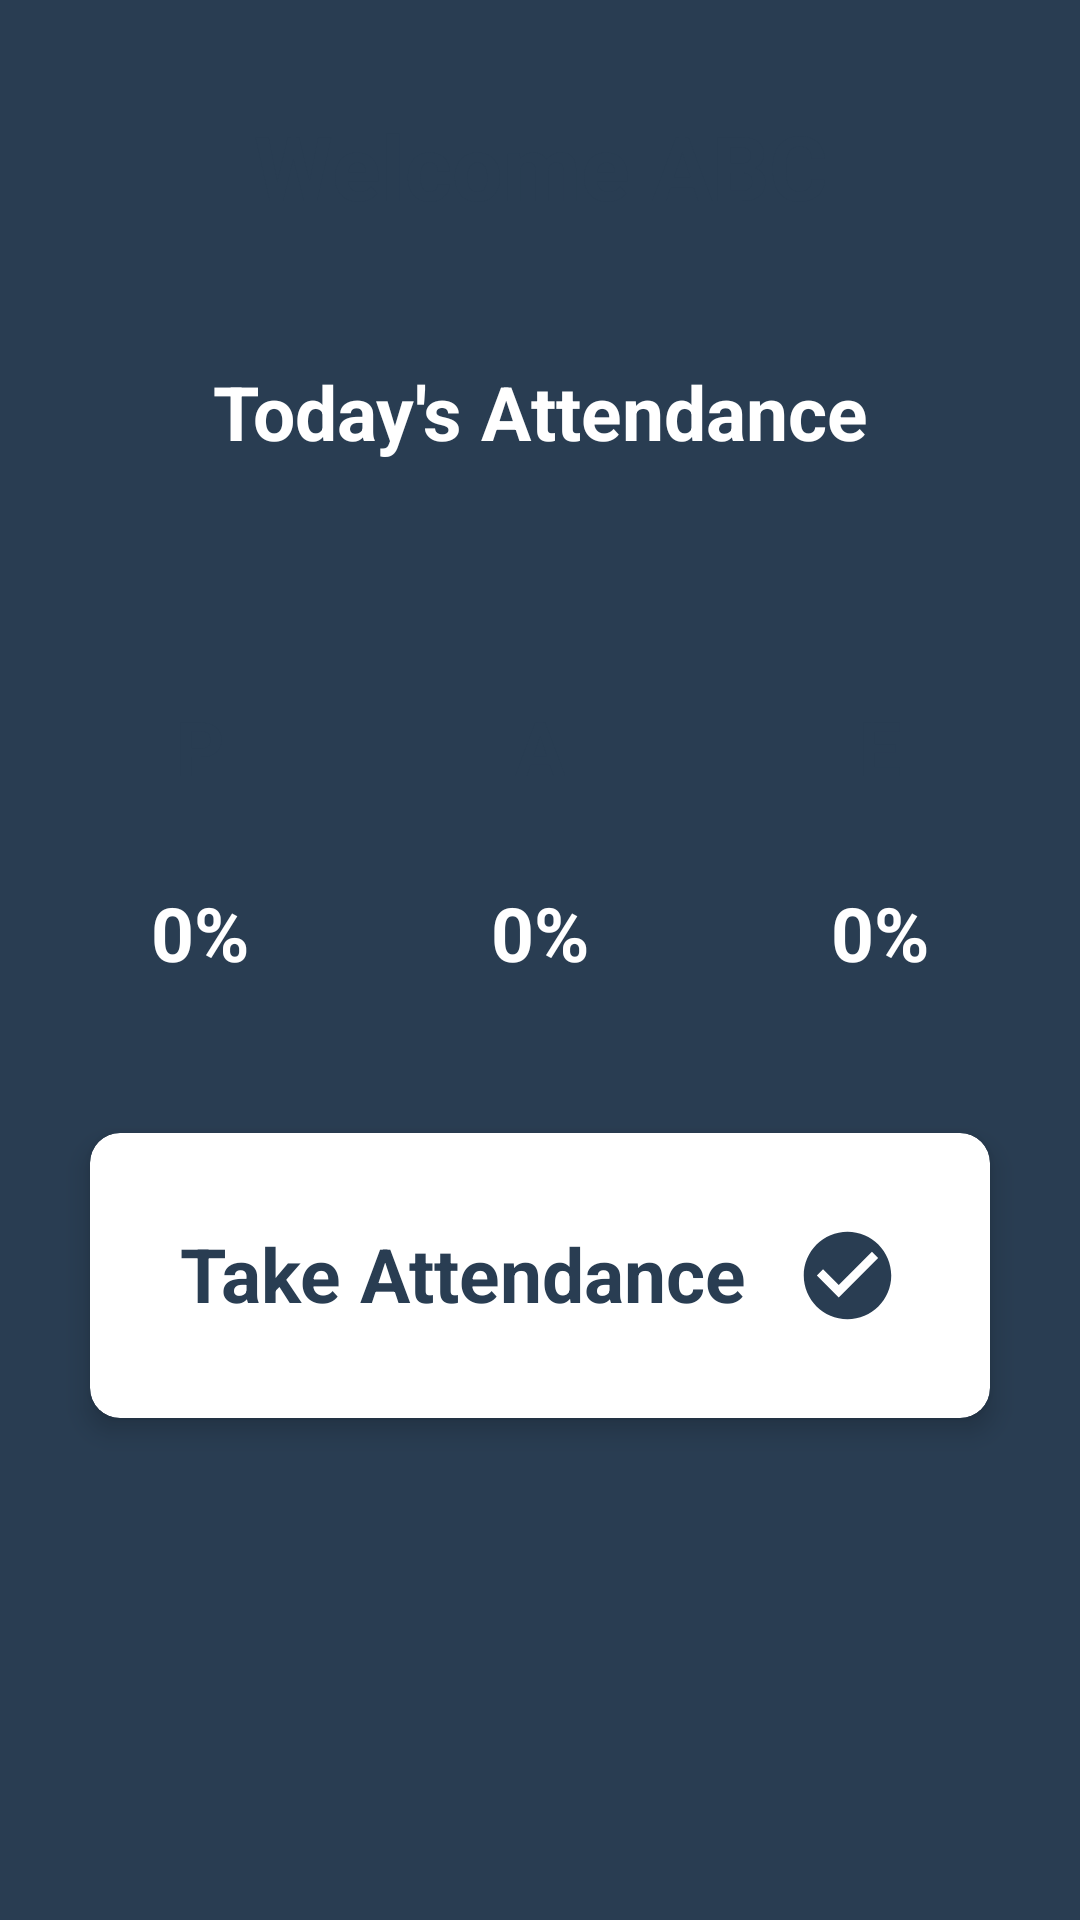

Point at icon controls on the screen. Image size 1080px x 1920px, points as [x,y].
check circle: [847,1275]
